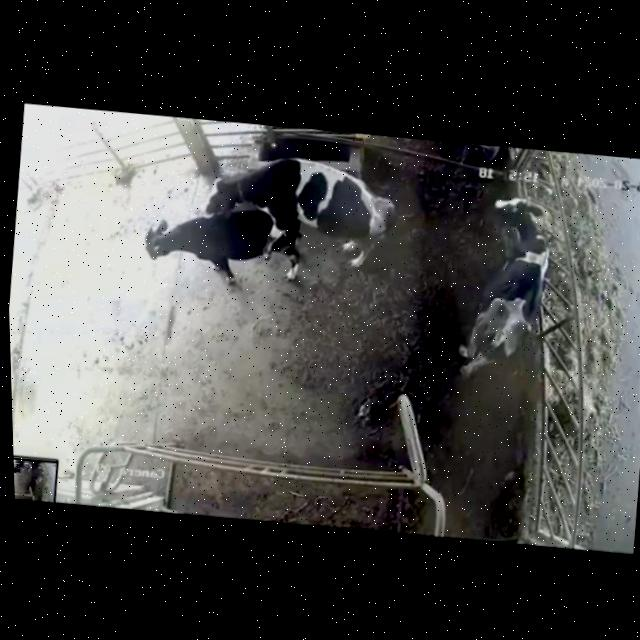ride: (195, 139, 419, 293)
stand: (431, 186, 561, 394), (136, 190, 308, 305)
